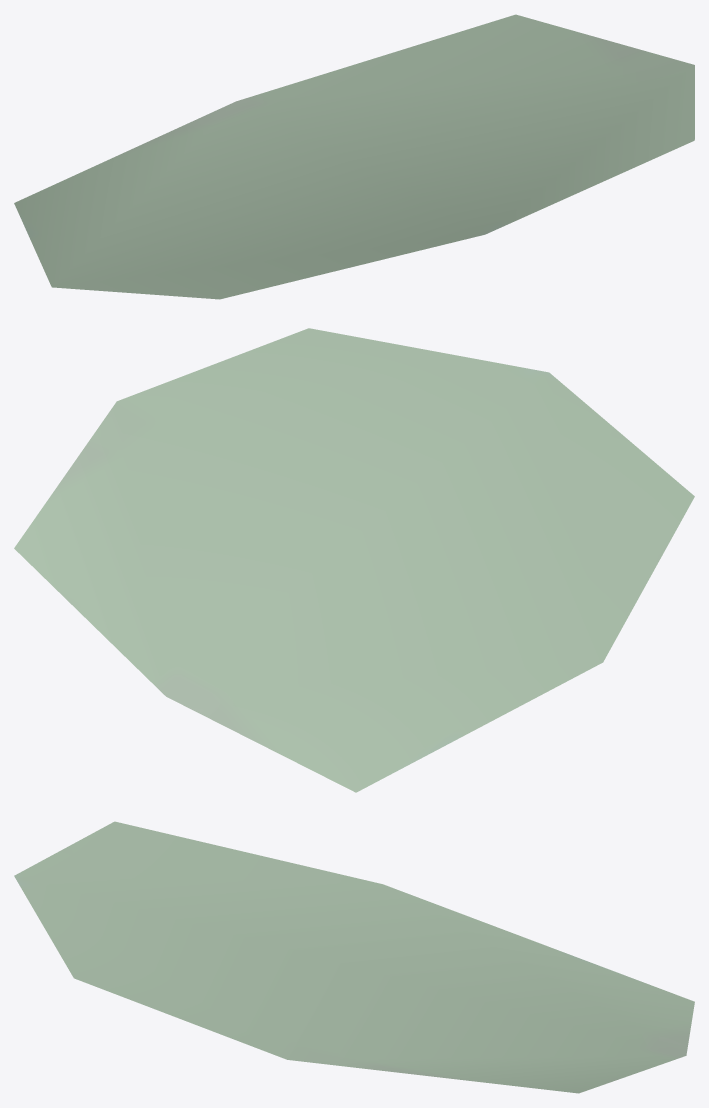
File: TROLLHOLE02_HOLECAP176.fbx
3 renders of one model, top to bottom at view 1: azimuth 30°, elevation 25°; view 2: azimuth 150°, elevation 25°; view 3: azimuth 270°, elevation 25°, orthographic. The views are drawn at different scales.
Parts seen in each view (by area): view 1: TROLLHOLE02_HOLECAP176; view 2: TROLLHOLE02_HOLECAP176; view 3: TROLLHOLE02_HOLECAP176.
Part boxes in pixels (left/top/right/bottom): TROLLHOLE02_HOLECAP176: left=14, top=14, right=694, bottom=299; TROLLHOLE02_HOLECAP176: left=14, top=328, right=694, bottom=792; TROLLHOLE02_HOLECAP176: left=14, top=821, right=694, bottom=1093.
Size of the model in its own units: 22368 by 7284 by 22417.
1 material, 1 textured.
